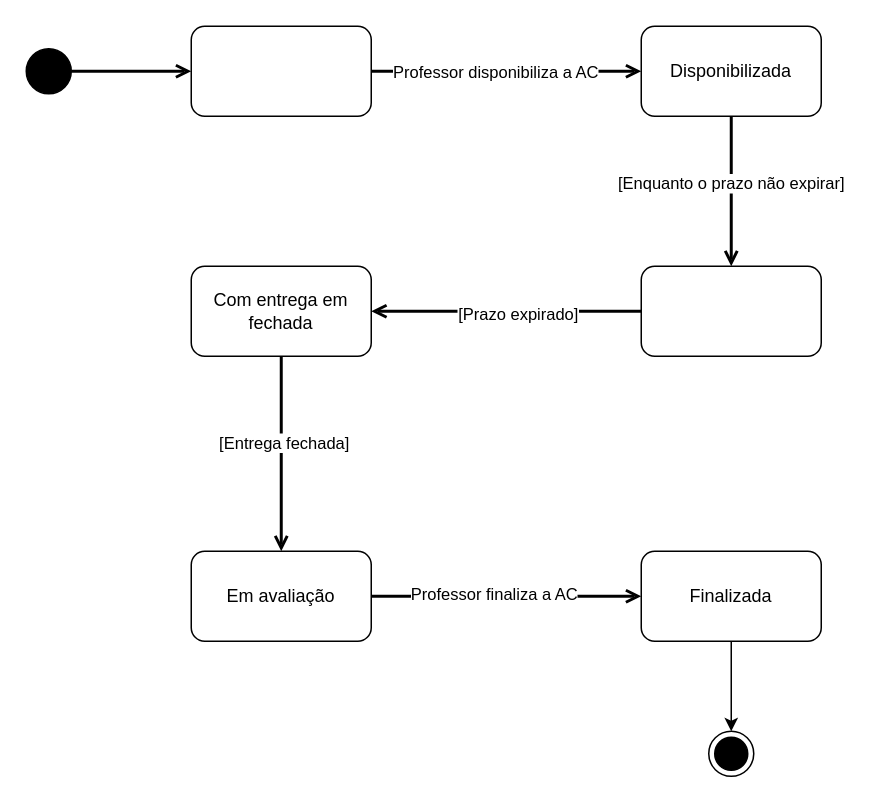
Image size: 870x803. Some labels were removed from this diagram. Here are the shapes that lost their labels. From the top down, the centre of each, then its label:
At pixel 280 70: "Criada".
At pixel 730 310: "Com entrega em aberto".
